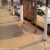zebra: (6, 2, 39, 30)
